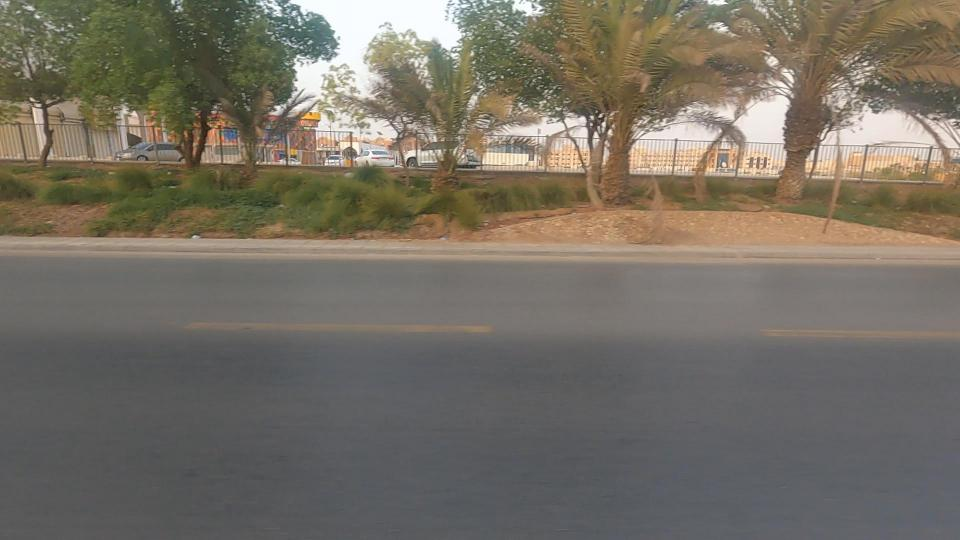GARBAGE: (156, 215, 231, 260)
